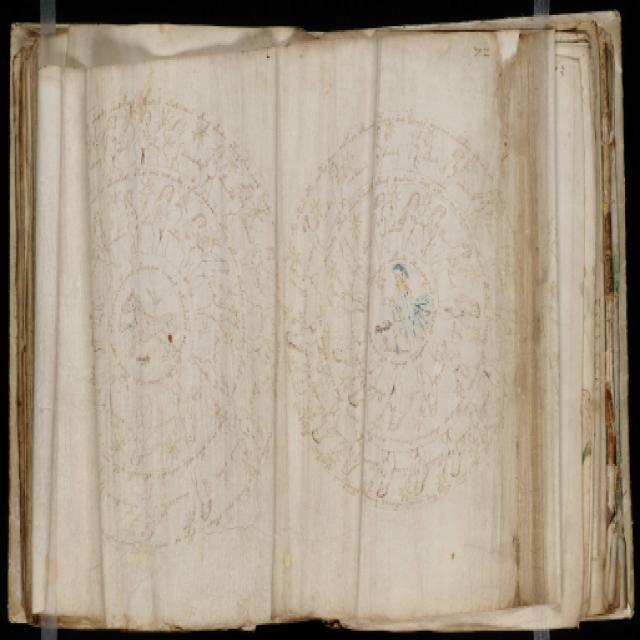ornament_circle: (281, 112, 523, 497)
